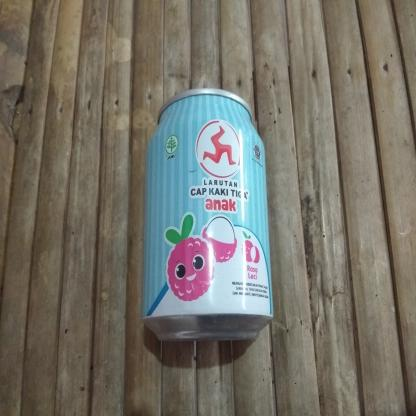mouse: (136, 80, 282, 352)
